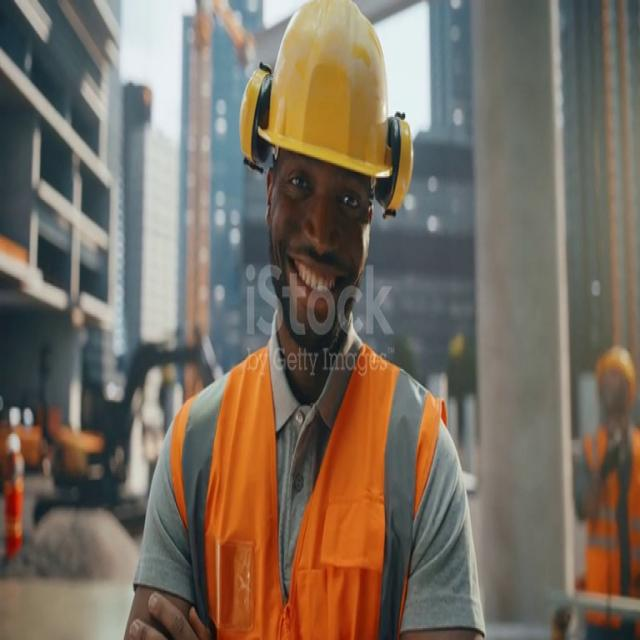capacete: (232, 1, 414, 216)
